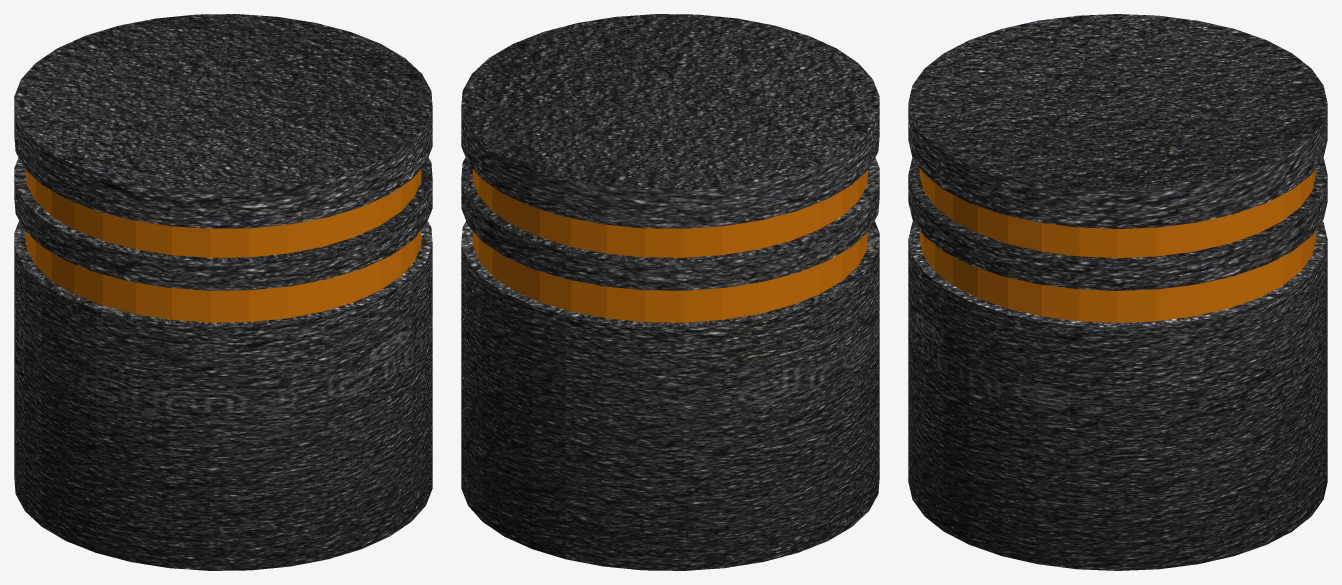
Rendered from castIron.fbx.
3 renders of one model, left to right at view 1: azimuth 30°, elevation 25°; view 2: azimuth 150°, elevation 25°; view 3: azimuth 270°, elevation 25°, orthographic.
Visible parts, largest first — view 1: Чугун, Металл.005; view 2: Чугун, Металл.005; view 3: Чугун, Металл.005.
Part boxes in pixels (x1,y1,x2,y2): Чугун: (14, 14, 432, 570); Металл.005: (25, 169, 421, 322); Чугун: (461, 14, 879, 570); Металл.005: (472, 169, 868, 322); Чугун: (908, 14, 1327, 570); Металл.005: (919, 168, 1316, 322).
Bounding box in the file's own units: 1 × 1 × 1.
Materials: 2 (1 with a texture image).
